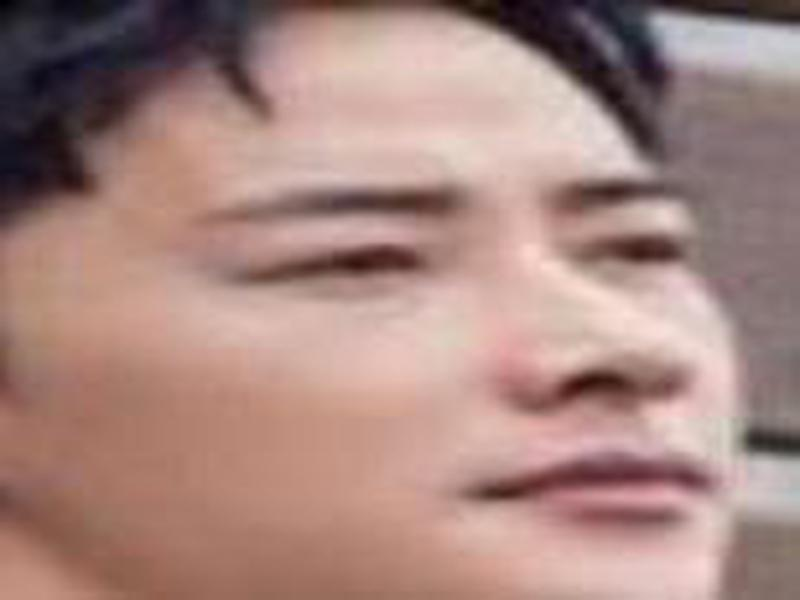without_mask: (10, 10, 744, 600)
